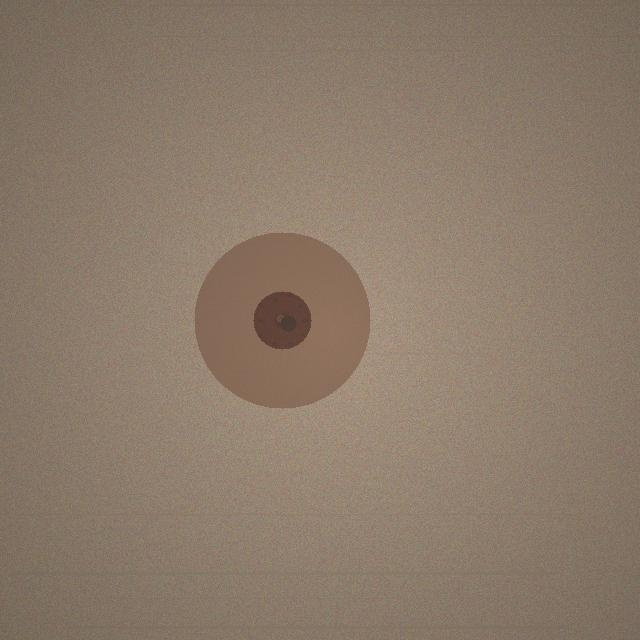cold_weld: (194, 232, 370, 408)
